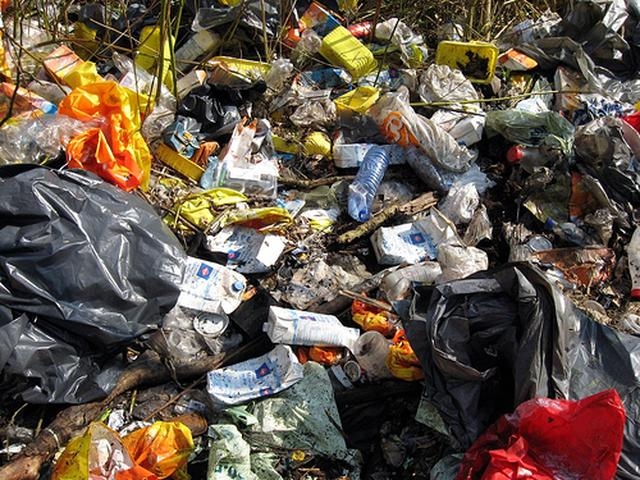garbage: (16, 23, 624, 449)
